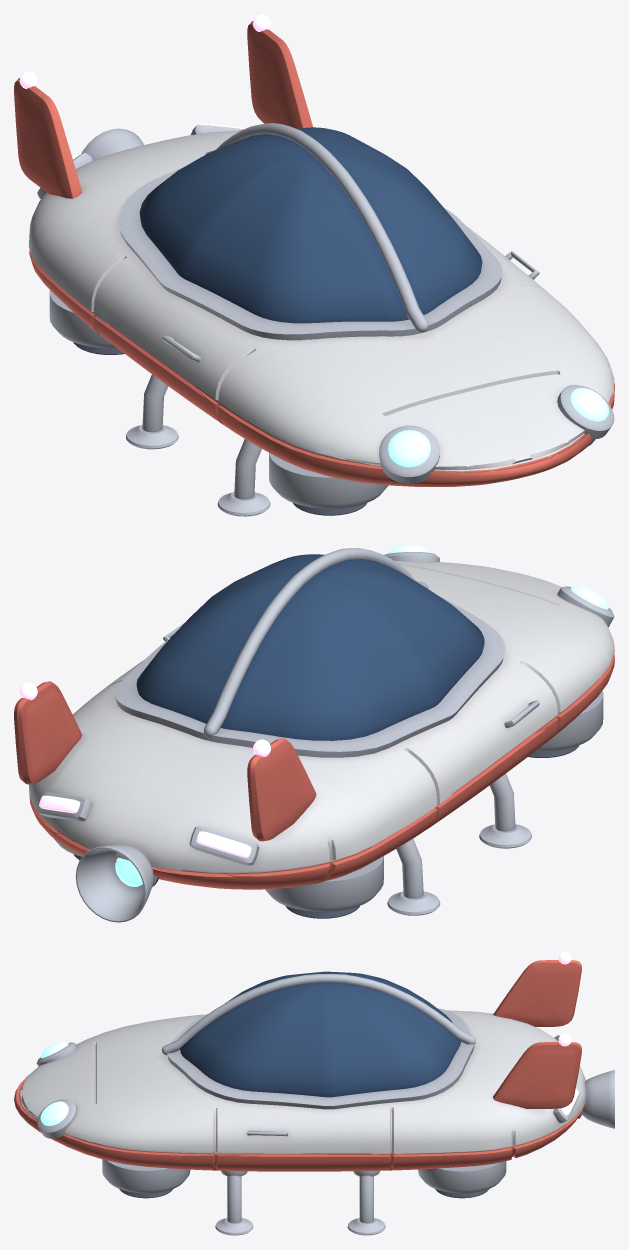
The model's file is futureliner.glb.
3 renders of one model, top to bottom at view 1: azimuth 30°, elevation 25°; view 2: azimuth 150°, elevation 25°; view 3: azimuth 270°, elevation 25°, orthographic. The views are drawn at different scales.
Parts seen in each view (by area): view 1: hover-car_body, hover-car_headlights_glow; view 2: hover-car_body, hover-car_taillights_glow, hover-car_headlights_glow, hover-car_hover_glow; view 3: hover-car_body, hover-car_headlights_glow, hover-car_taillights_glow.
Part boxes in pixels (x1,y1,x2,y2): hover-car_body: [14, 21, 614, 516]; hover-car_headlights_glow: [388, 387, 609, 467]; hover-car_body: [14, 548, 614, 922]; hover-car_taillights_glow: [19, 682, 270, 857]; hover-car_headlights_glow: [388, 545, 609, 609]; hover-car_hover_glow: [115, 857, 142, 886]; hover-car_body: [14, 960, 614, 1235]; hover-car_headlights_glow: [40, 1041, 68, 1125]; hover-car_taillights_glow: [558, 951, 578, 1115].
Bounding box in the file's own units: 1.99 × 1.58 × 4.09.
Materials: 4 (1 with a texture image).
